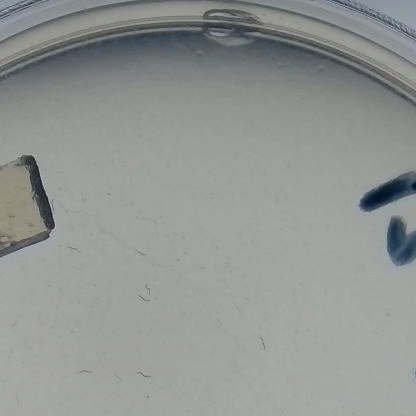worm: (254, 332, 270, 353), (131, 369, 156, 381), (111, 371, 125, 386), (132, 247, 151, 258), (65, 243, 81, 256), (73, 368, 95, 377), (137, 294, 151, 307), (139, 287, 160, 295)
